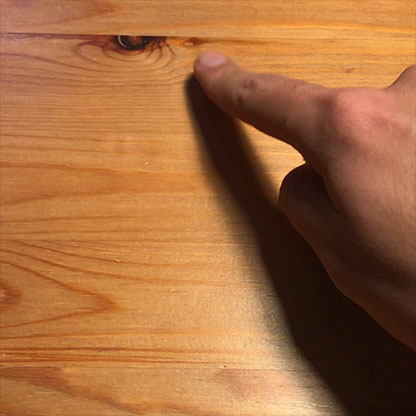fingertip: (187, 43, 236, 86)
